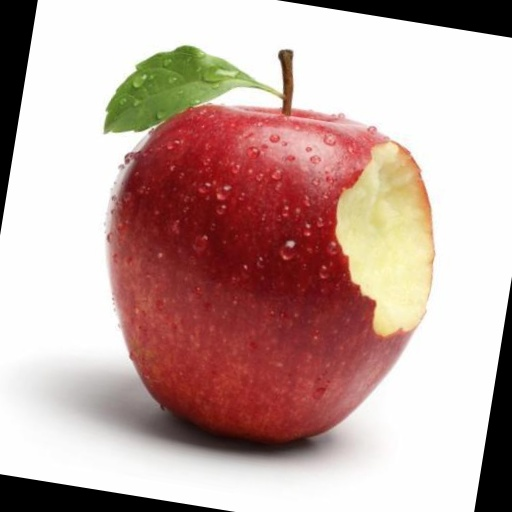fruit: (334, 149, 493, 509), (287, 93, 289, 99), (221, 72, 225, 75), (146, 78, 149, 80)
